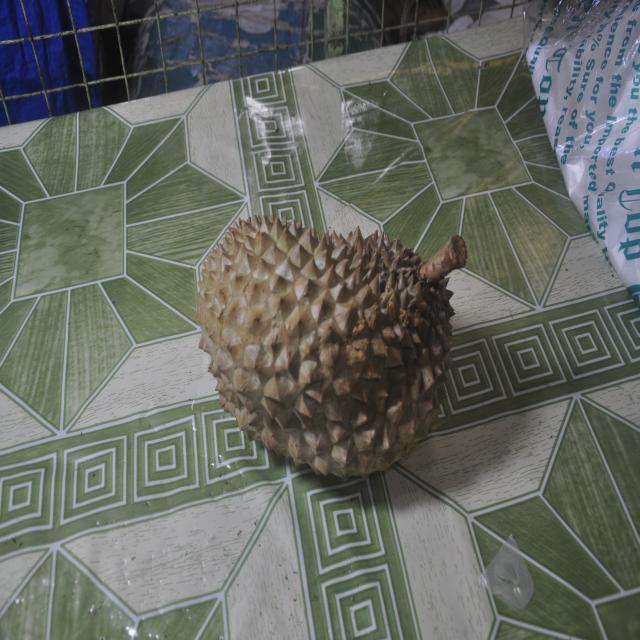mature: (196, 213, 466, 479)
